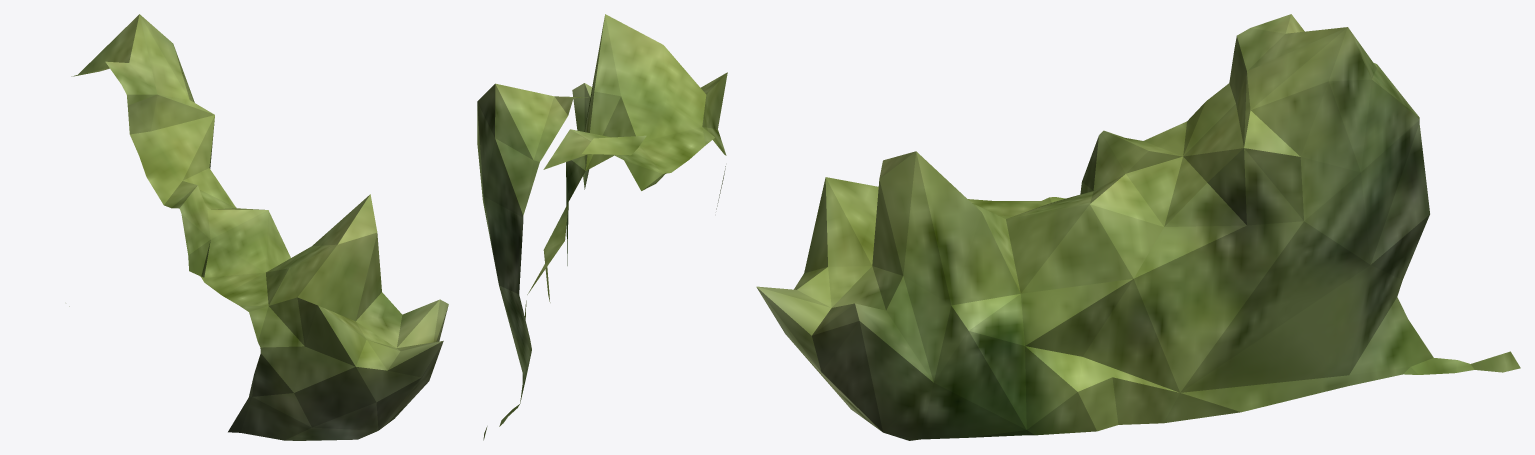
3 views of the same model, side by side, from view 1: azimuth 30°, elevation 25°; view 2: azimuth 150°, elevation 25°; view 3: azimuth 270°, elevation 25° (orthographic). The views are drawn at different scales.
Size of the model in its own units: 1.55 by 2.56 by 4.71.
Materials: 1 (1 with a texture image).
